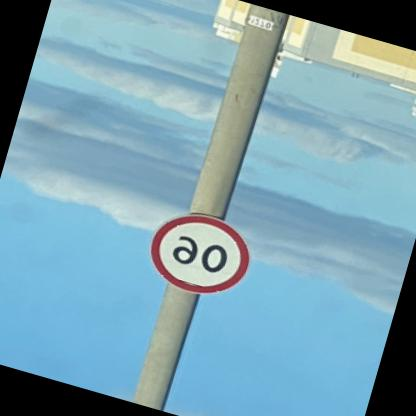speedlimit: (139, 205, 256, 307)
